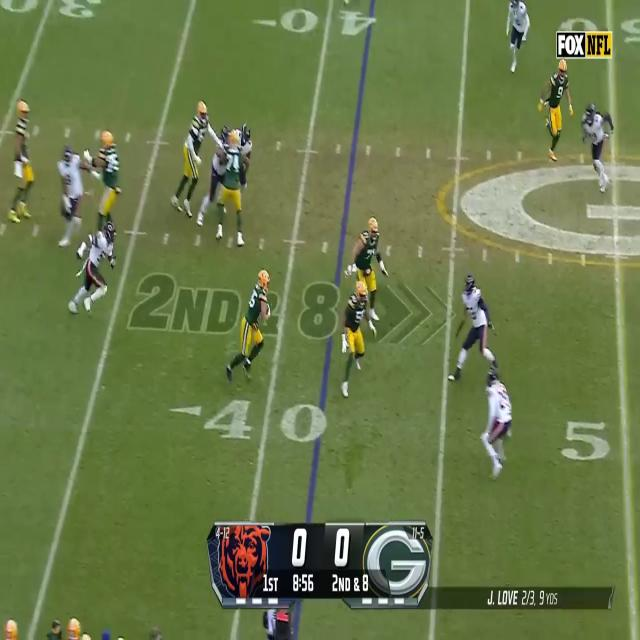Player: (538, 58, 574, 164), (178, 101, 208, 213), (242, 266, 271, 381), (483, 365, 512, 479), (82, 221, 116, 317), (459, 270, 488, 380), (56, 146, 88, 242), (342, 280, 367, 402), (217, 131, 243, 245), (354, 216, 381, 325), (10, 98, 33, 220), (582, 100, 608, 194), (97, 128, 120, 222), (505, 0, 529, 74)
